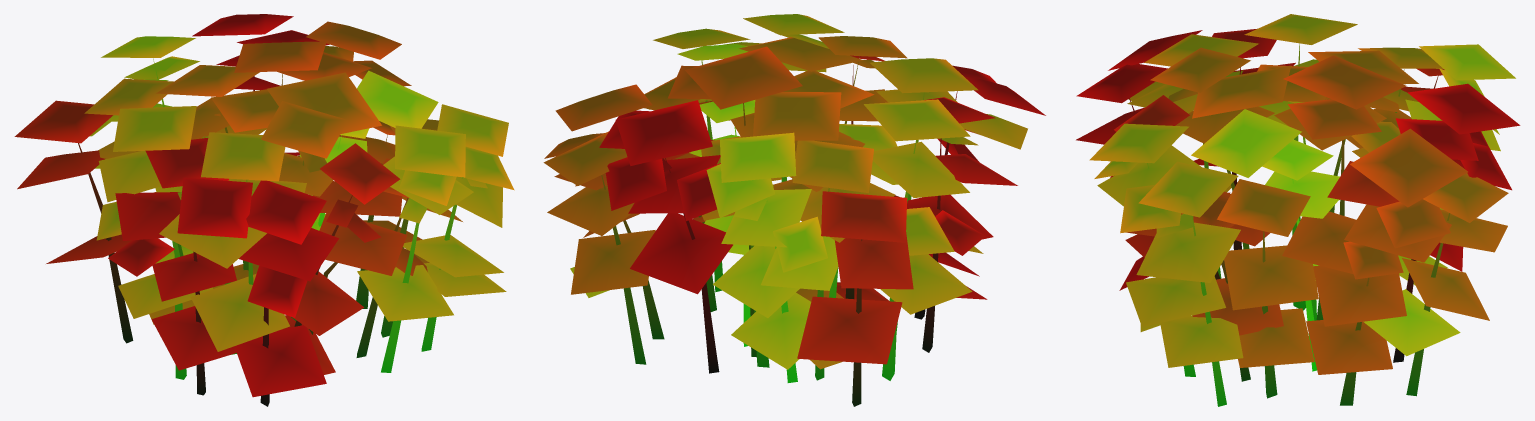
File: G_SaFlower_001_S1.fbx
3 views of the same model, side by side, from view 1: azimuth 30°, elevation 25°; view 2: azimuth 150°, elevation 25°; view 3: azimuth 270°, elevation 25° (orthographic). The views are drawn at different scales.
Parts seen in each view (by area): view 1: S_M_Plant_SaFlower001_1x1x1_LOD0; view 2: S_M_Plant_SaFlower001_1x1x1_LOD0; view 3: S_M_Plant_SaFlower001_1x1x1_LOD0.
Part boxes in pixels (x1,y1,x2,y2): S_M_Plant_SaFlower001_1x1x1_LOD0: (14, 14, 514, 406); S_M_Plant_SaFlower001_1x1x1_LOD0: (543, 14, 1045, 406); S_M_Plant_SaFlower001_1x1x1_LOD0: (1076, 14, 1520, 406).
Bounding box in the file's own units: 136 × 100 × 135.
